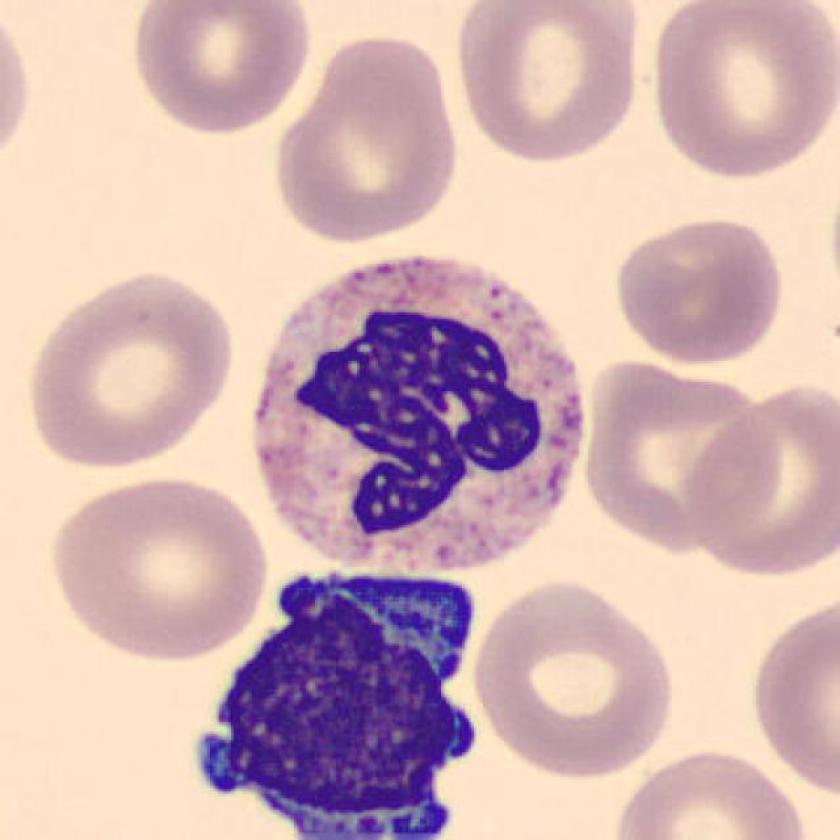neutrophil: (253, 258, 584, 571)
